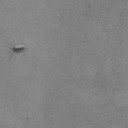iron sheet ash: (12, 46, 24, 52)
